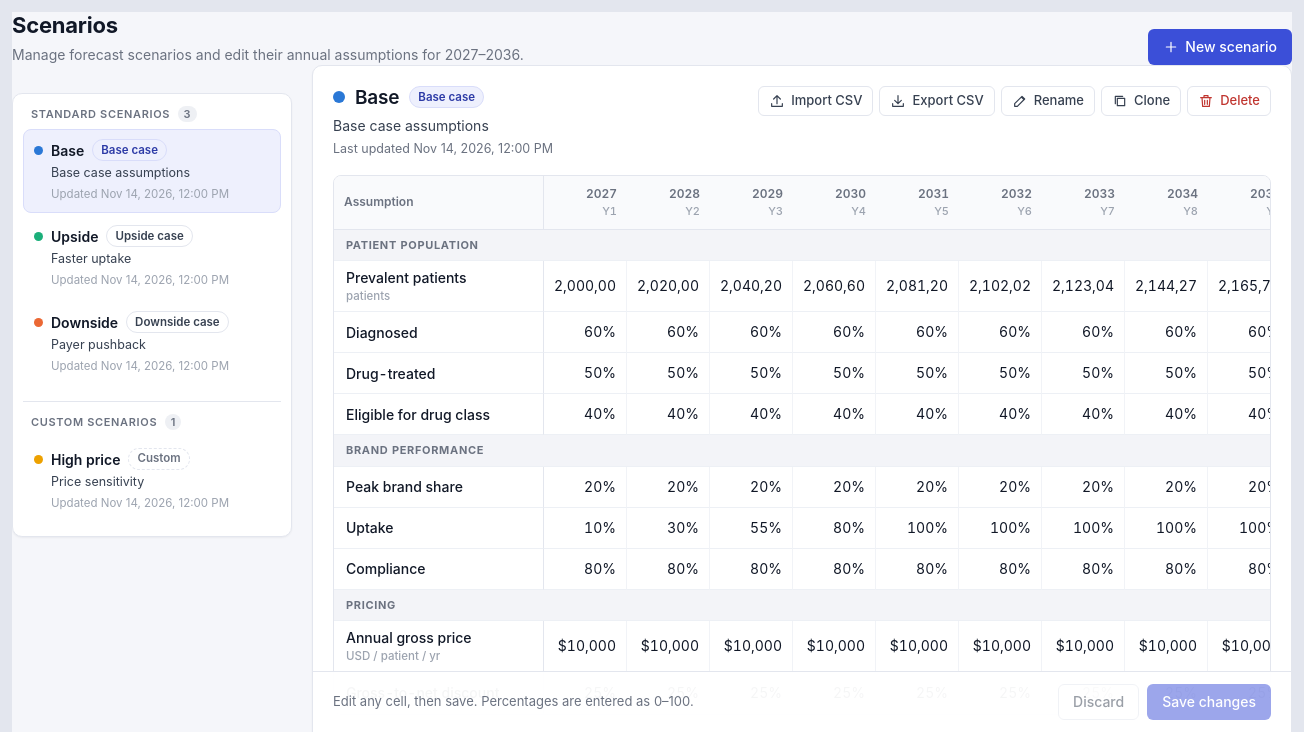
Test: ScenariosPage – input grid › shows server validation errors on the affected cells
Check: the table is shown, box [334,176,1271,714]
Replace the text in the field named "Eligible for drug class, 2028" with "41": (668, 414) [627,394,709,434]
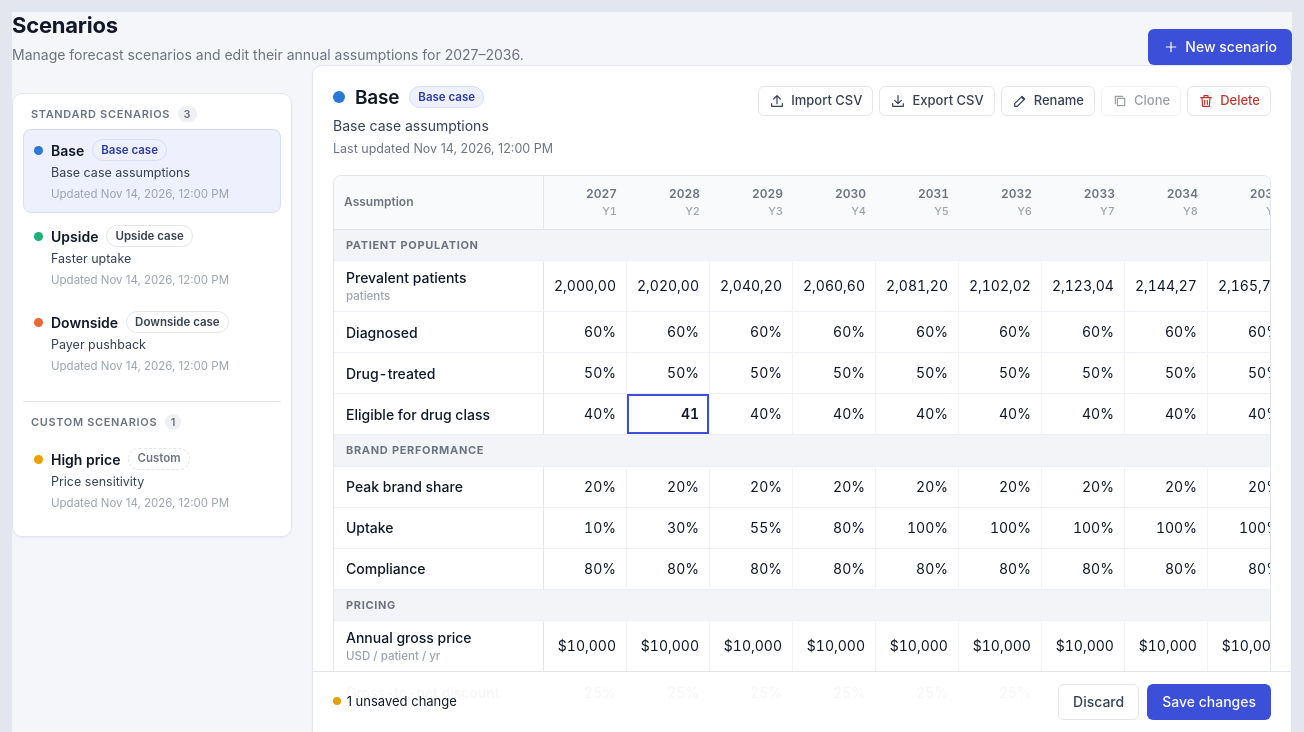
Click the button "Save changes": click(1209, 702) [1147,684,1271,720]
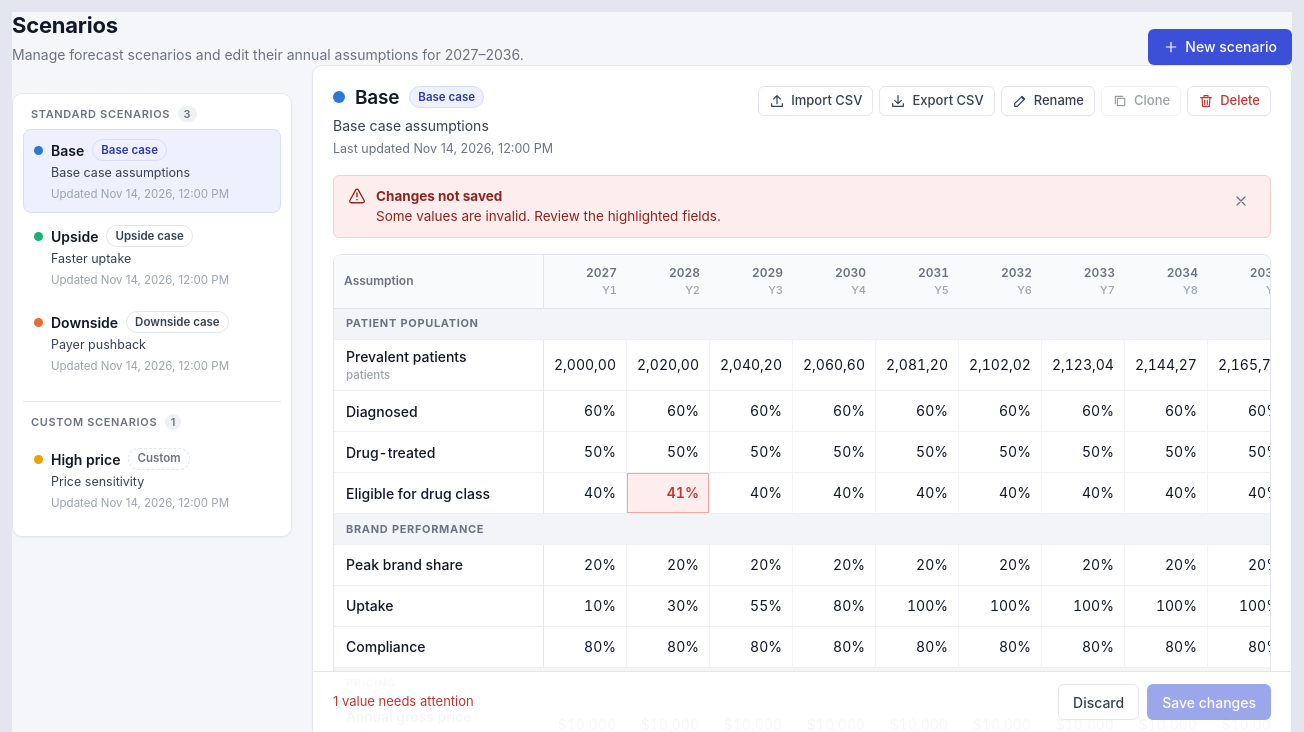
Check: the message shows "Changes not saved", box [376,188,502,204]
